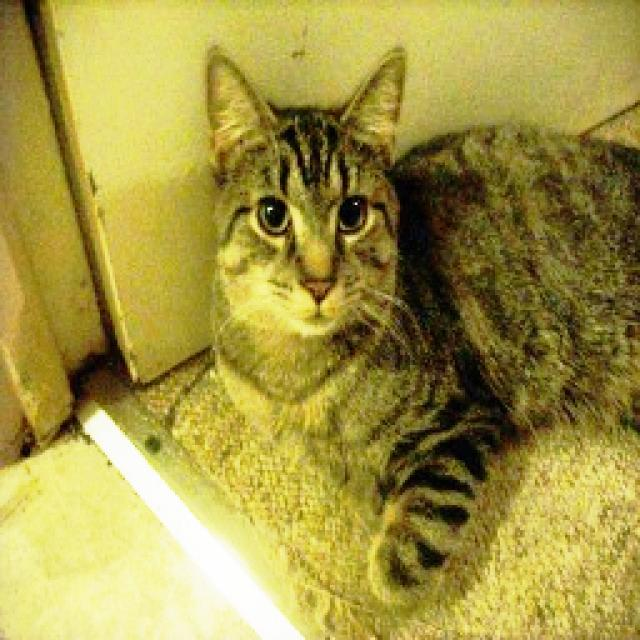cat: (203, 45, 640, 612)
